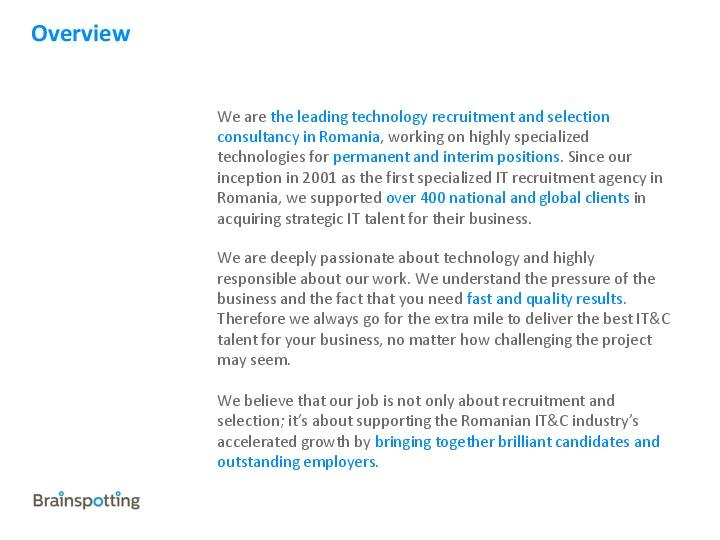paragraph: (210, 89, 695, 488)
title: (20, 13, 143, 55)
